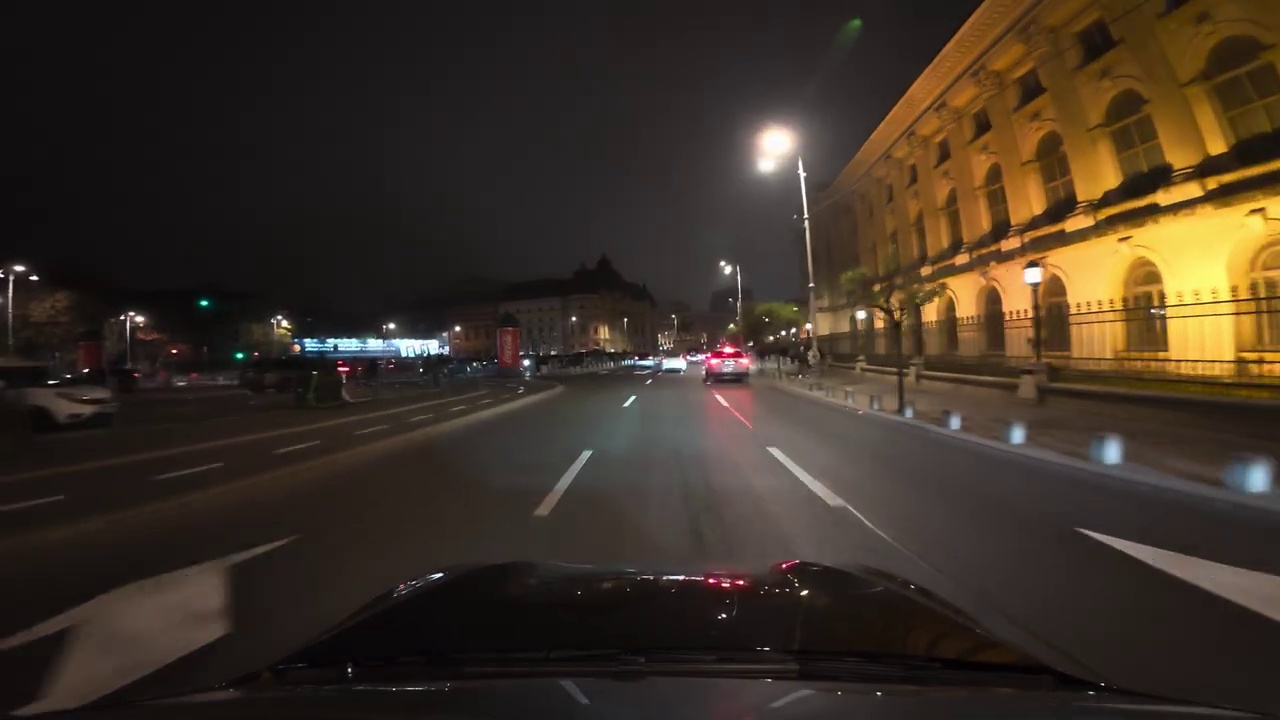acesa: (757, 128, 795, 166), (716, 259, 737, 283)
